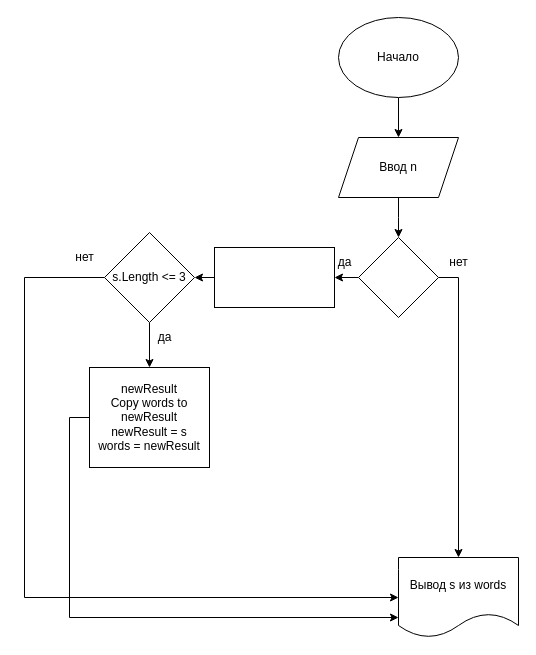
Some shapes in this 536 by 655 pixel diagram are drawn without their labels. Each missing label, with the box of its shape:
Enter something s: (214, 246, 334, 308)
i<n: (358, 236, 438, 318)
